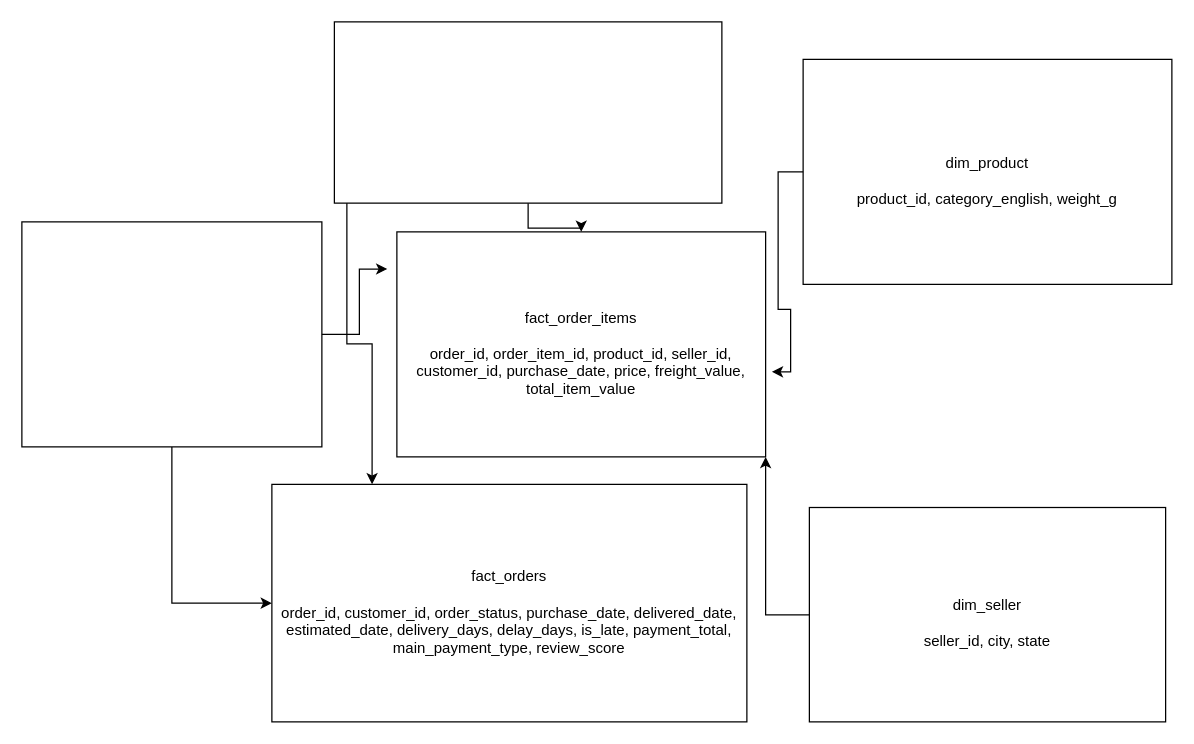
The diagram is 1194 pixels wide and 744 high, and some of its shapes have lost their labels. Each missing label, with the centre of its shape:
"dim_customer customer_id (PK) customer_unique_id city state" goes at (527,112).
"dim_date full_date, year, month, month_name, quarter, weekday" goes at (171,334).
